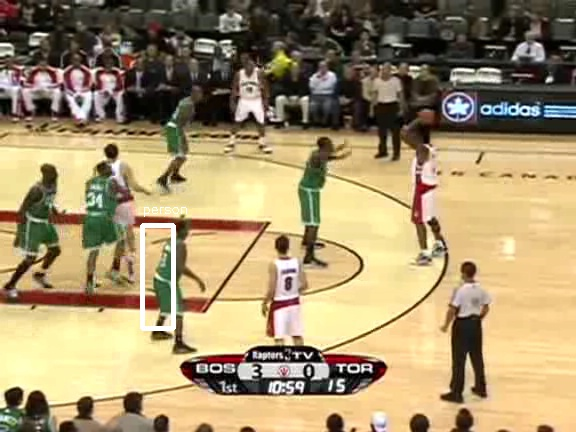person: (154, 237, 188, 318), (153, 237, 187, 318), (155, 237, 189, 318), (154, 236, 188, 317), (154, 238, 188, 319)
target_negative: (41, 55, 499, 387), (325, 138, 514, 314), (106, 86, 246, 170), (434, 157, 478, 282), (549, 11, 557, 413), (485, 254, 501, 358)
